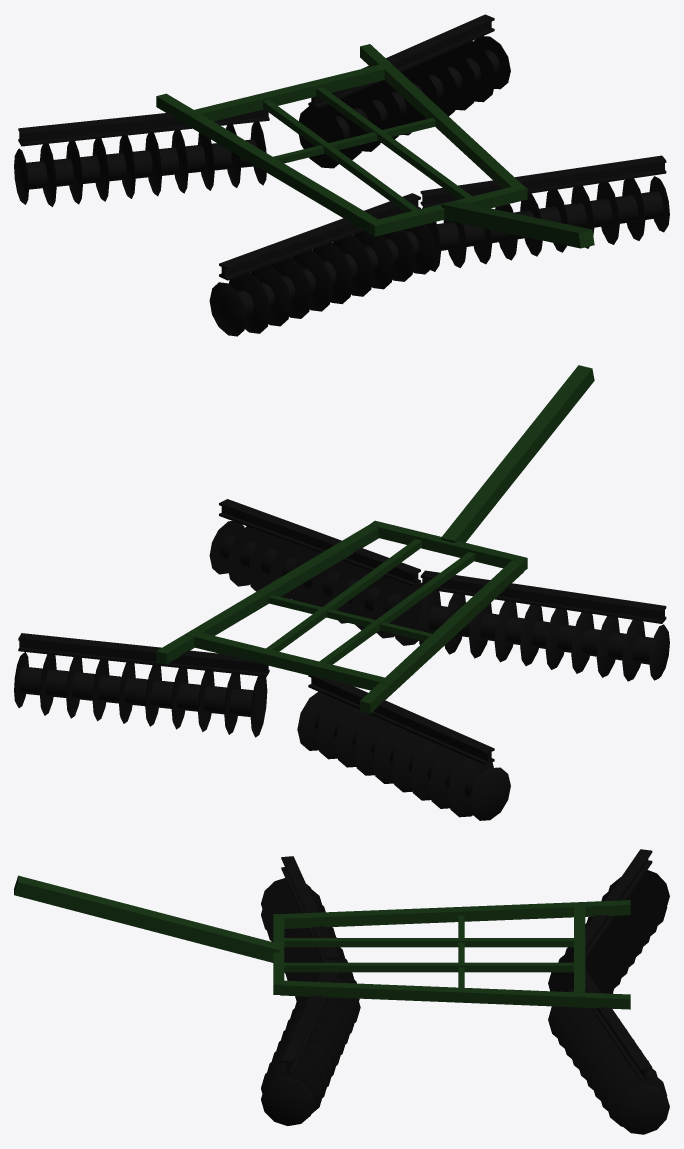
File: plow.obj
The picture shows the model from 3 angles, top to bottom: view 1: azimuth 30°, elevation 25°; view 2: azimuth 150°, elevation 25°; view 3: azimuth 270°, elevation 25°; orthographic projection. The views are drawn at different scales.
Parts seen in each view (by area): view 1: plow_Cube.001; view 2: plow_Cube.001; view 3: plow_Cube.001.
Boxes of the visible parts, x1,y1,x2,y2 form: plow_Cube.001: (14,14,669,336); plow_Cube.001: (14,365,669,820); plow_Cube.001: (14,849,669,1134).
Bounding box in the file's own units: 3.47 × 1.09 × 4.28.
